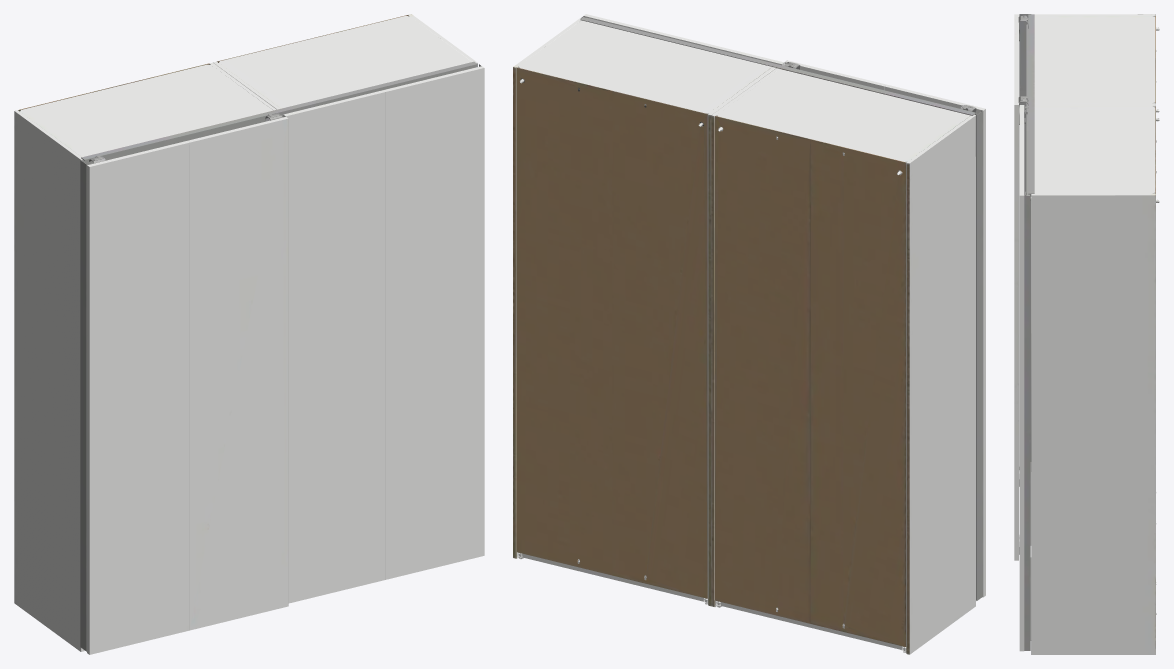
The model's file is armadio-camera-v01.glb.
3 views of the same model, side by side, from view 1: azimuth 30°, elevation 25°; view 2: azimuth 150°, elevation 25°; view 3: azimuth 270°, elevation 25° (orthographic). The views are drawn at different scales.
Visible parts, largest first — view 1: 19503162_wardrobe.003; view 2: 19503162_wardrobe.003; view 3: 19503162_wardrobe.003.
Boxes of the visible parts, x1=… form: 19503162_wardrobe.003: x1=14, y1=14, x2=484, y2=654; 19503162_wardrobe.003: x1=513, y1=14, x2=985, y2=654; 19503162_wardrobe.003: x1=1014, y1=14, x2=1159, y2=654.
Bounding box in the file's own units: 2 × 2.37 × 0.678.
1 material, 1 textured.
